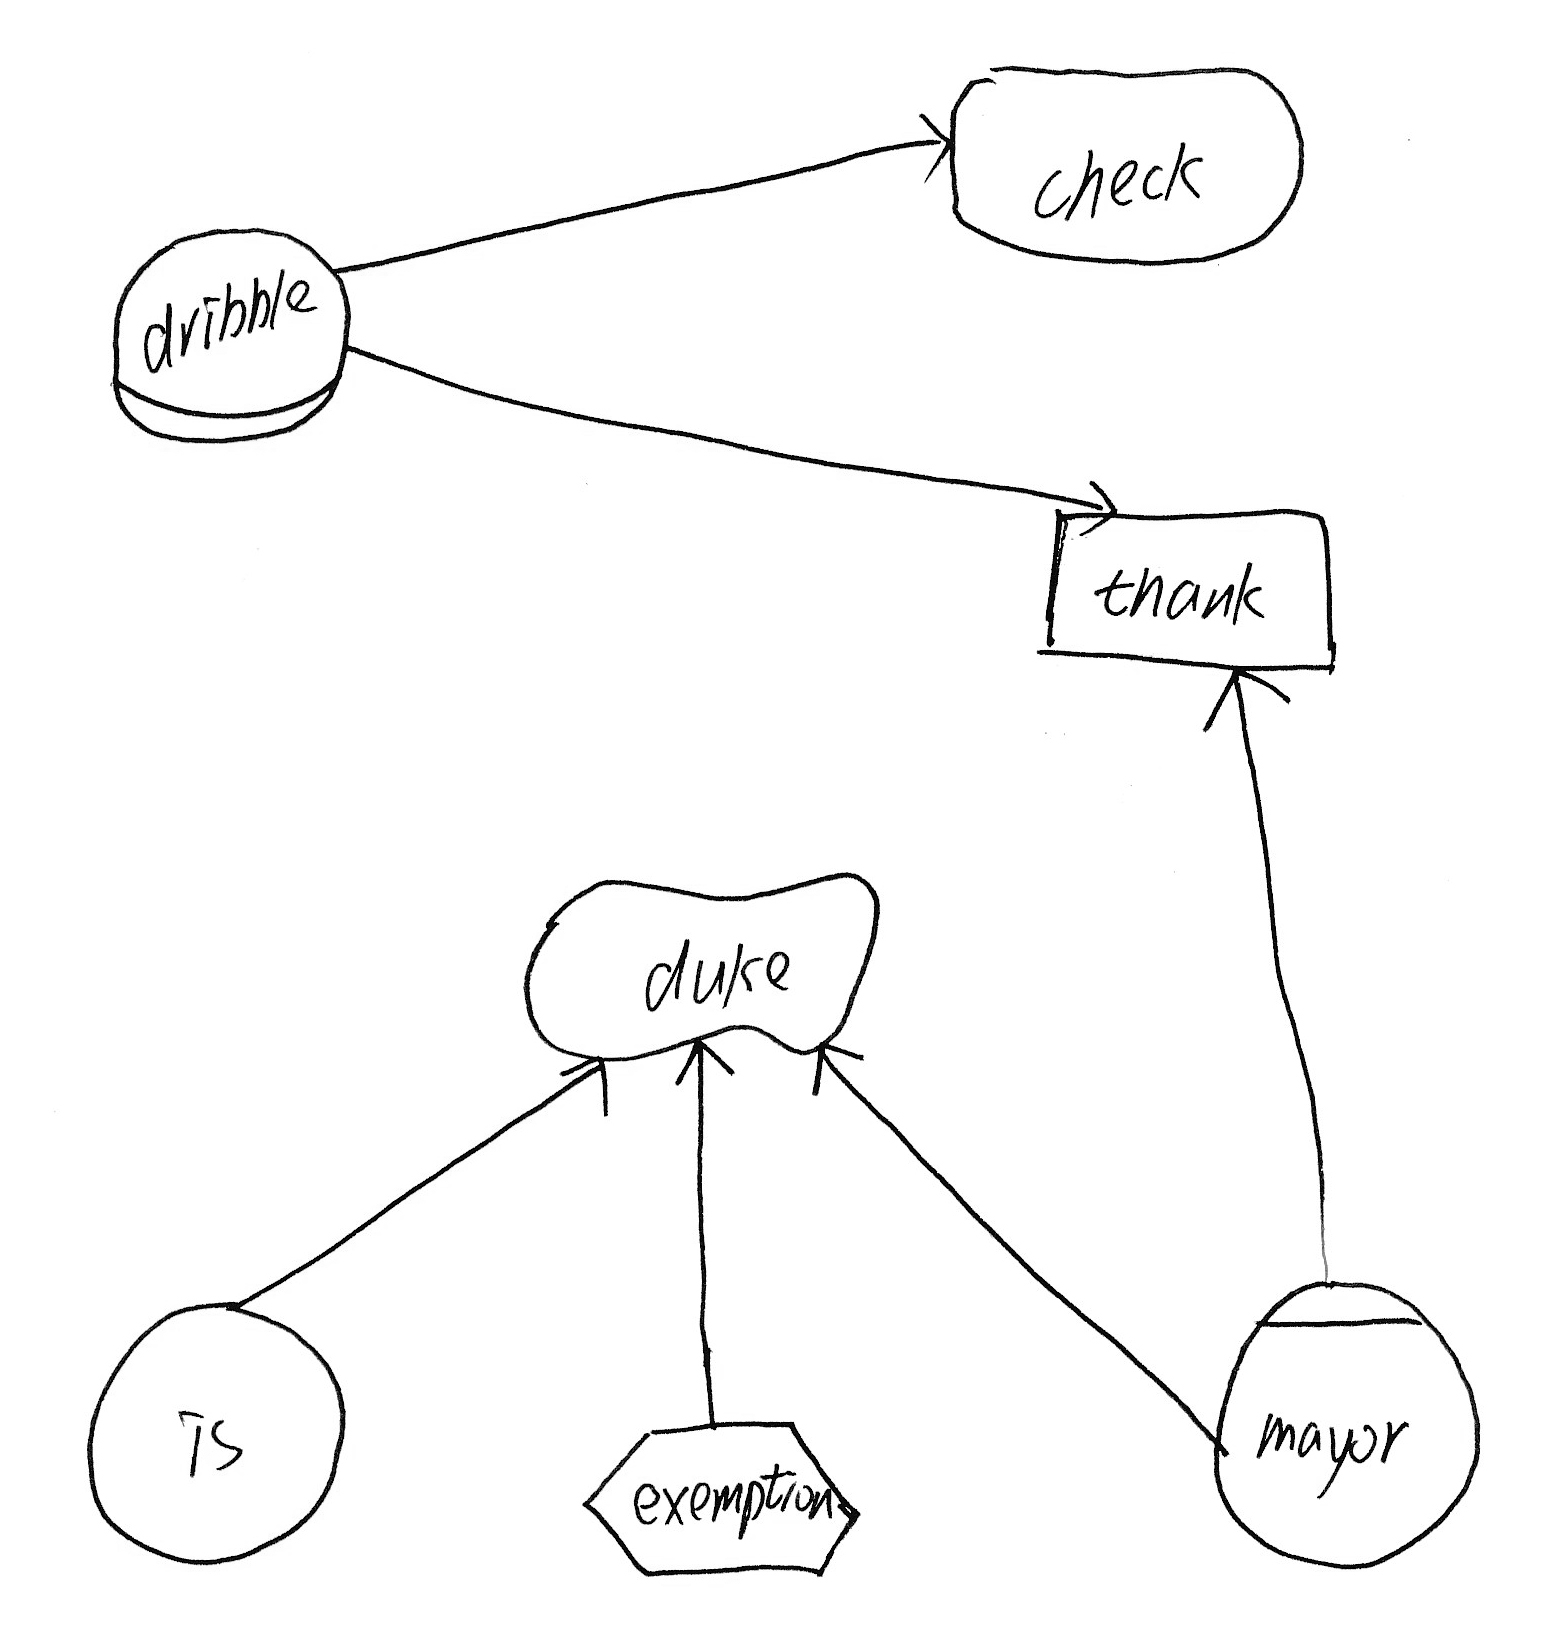actor: (68, 1285, 364, 1584)
agent: (1190, 1255, 1501, 1583)
arrow: (1192, 659, 1311, 750), (547, 1043, 633, 1122), (801, 1032, 878, 1106), (907, 97, 966, 186), (1058, 474, 1130, 547), (666, 1029, 738, 1097)
goal: (928, 49, 1324, 281)
quality: (511, 860, 894, 1081)
resource: (1020, 479, 1364, 695)
role: (96, 205, 361, 457)
task: (564, 1402, 878, 1597)
